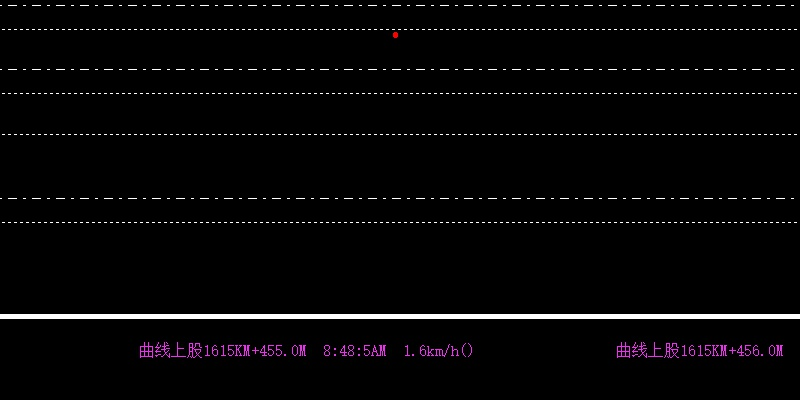face_down: (391, 24, 399, 39)
